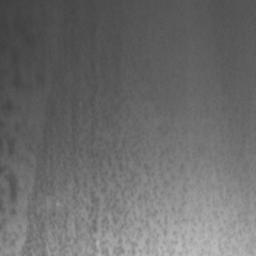Pitted surface: (0, 124, 204, 256), (0, 121, 25, 155), (13, 69, 20, 88), (2, 101, 13, 111)
